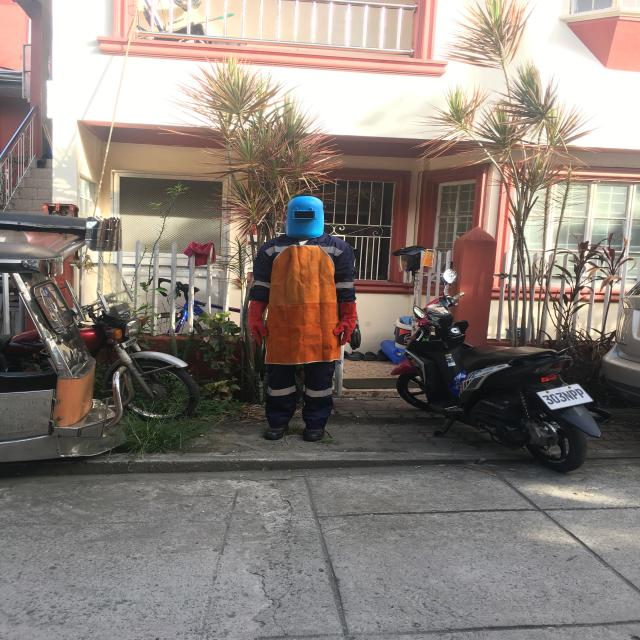with_helmet: (244, 184, 356, 253)
